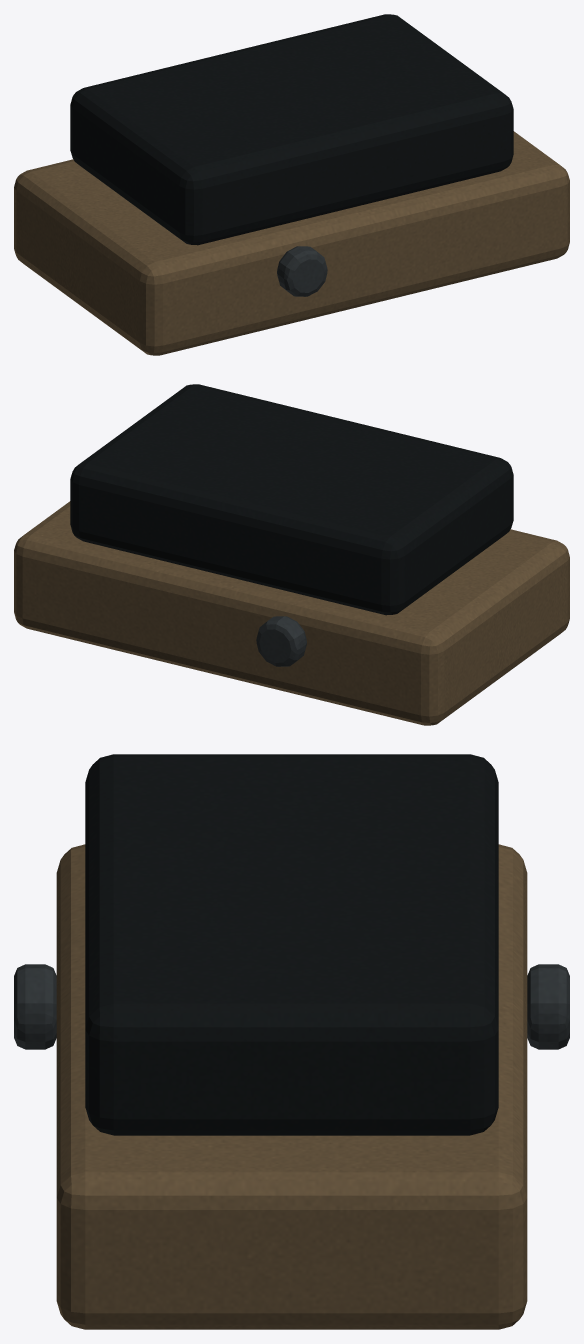
The model's file is shared.adapter.universal_micro.glb.
3 renders of one model, top to bottom at view 1: azimuth 30°, elevation 25°; view 2: azimuth 150°, elevation 25°; view 3: azimuth 270°, elevation 25°, orthographic. The views are drawn at different scales.
Visible parts, largest first — view 1: VIS_shared_adapter_universal_micro; view 2: VIS_shared_adapter_universal_micro; view 3: VIS_shared_adapter_universal_micro.
Boxes of the visible parts, box(x1,y1,x2,y2) form: VIS_shared_adapter_universal_micro: box(14, 14, 569, 355); VIS_shared_adapter_universal_micro: box(14, 384, 569, 725); VIS_shared_adapter_universal_micro: box(14, 754, 569, 1329).
Bounding box in the file's own units: 0.058 × 0.022 × 0.039.
3 materials, 3 textured.
